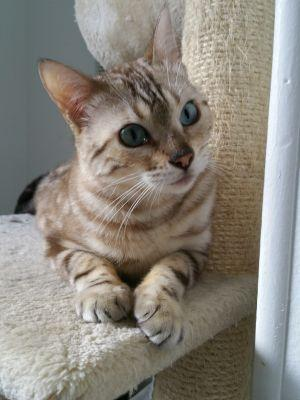bengal: (33, 11, 225, 215)
